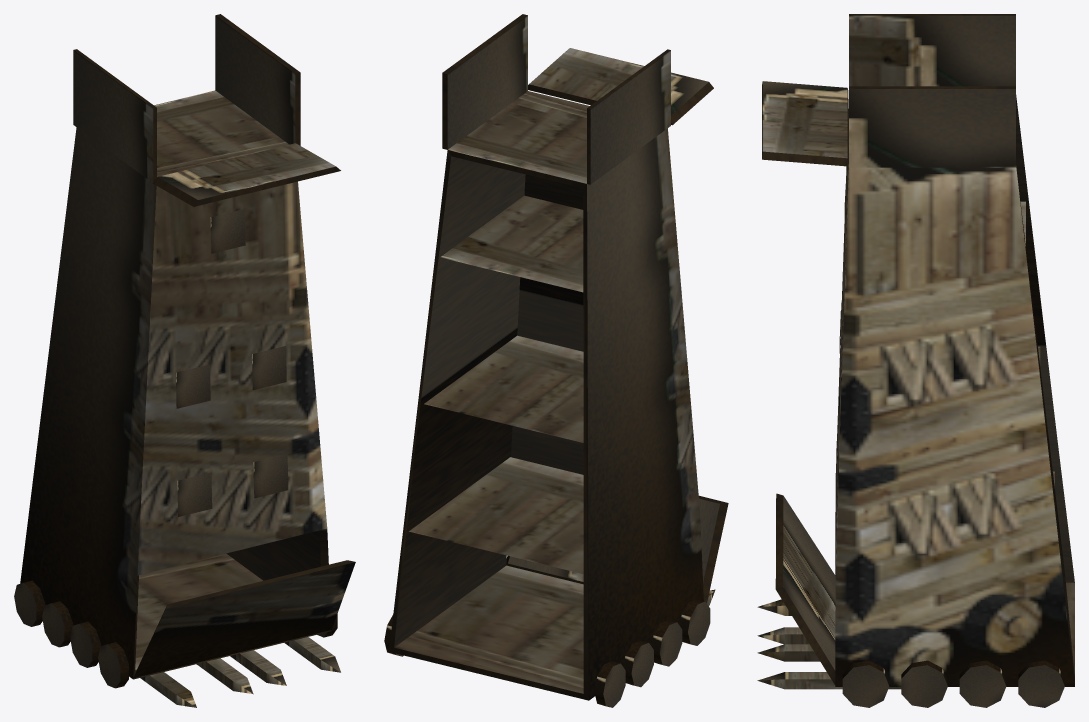
File: siege_tower.dae
3 views of the same model, side by side, from view 1: azimuth 30°, elevation 25°; view 2: azimuth 150°, elevation 25°; view 3: azimuth 270°, elevation 25° (orthographic). The views are drawn at different scales.
Parts seen in each view (by area): view 1: helepolis; view 2: helepolis; view 3: helepolis.
Boxes of the visible parts, x1,y1,x2,y2 form: helepolis: (14,14,355,707); helepolis: (384,14,728,707); helepolis: (757,14,1074,707).
Bounding box in the file's own units: 7.87 × 19.92 × 9.54.
